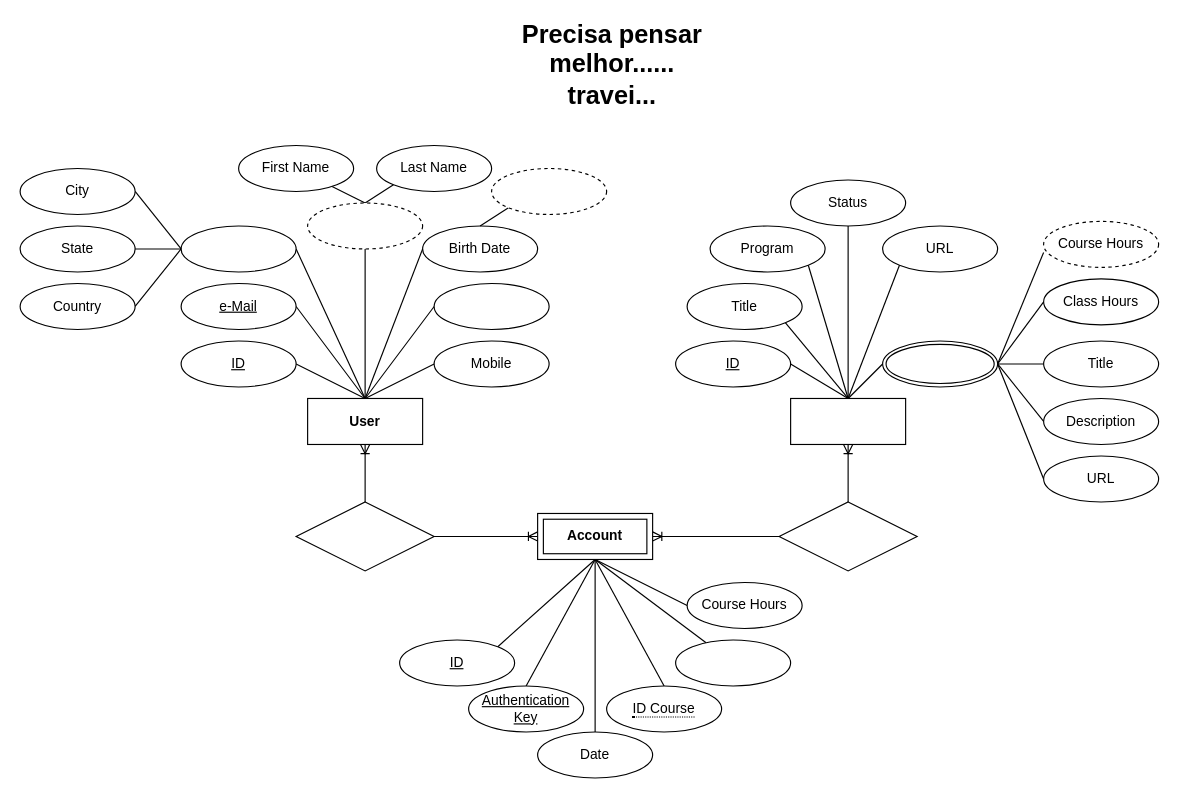
The diagram is 1179 pixels wide and 798 high, and some of its shapes have lost their labels. The shapes that lost their labels are listed below. From the top down, each one's box as (x1, y1, x2, y2) in pixels, then its label:
(490, 167, 607, 214): Age
(306, 202, 423, 249): Full Name
(180, 225, 296, 272): Location
(433, 282, 549, 329): Gender
(881, 340, 998, 387): Classes
(789, 397, 906, 444): Indicator
(295, 501, 434, 571): Own
(778, 501, 917, 571): Create
(674, 639, 791, 686): ID Student
